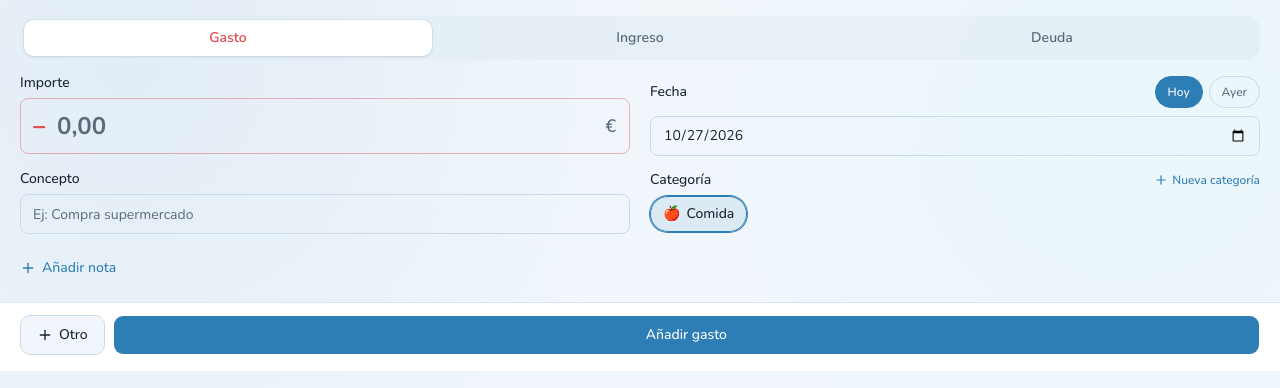
ExpenseForm quick entry › Hoy / Ayer chips set the date
Click the button "Ayer".
click(1234, 92)  # box x1=1209 y1=76 x2=1260 y2=108
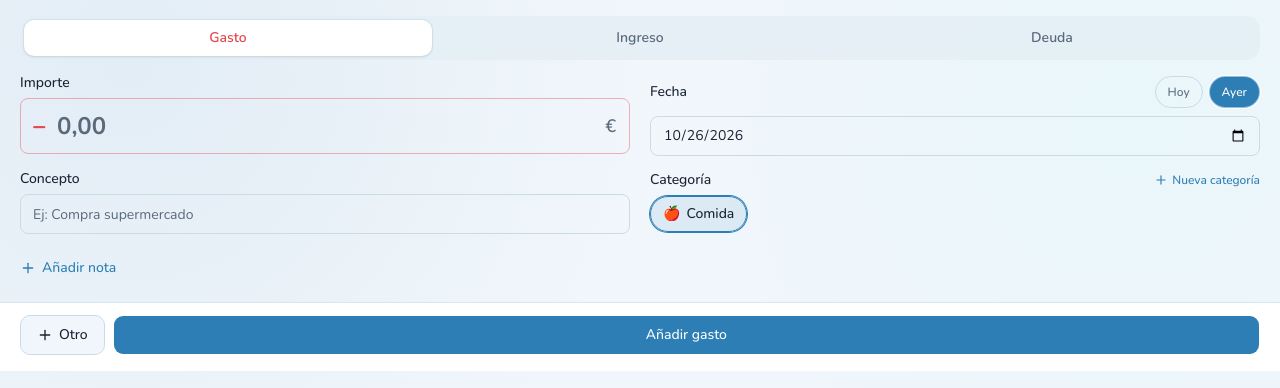
Now the date field labelled "Fecha" holds "2026-10-26", box x1=650 y1=116 x2=1260 y2=156
